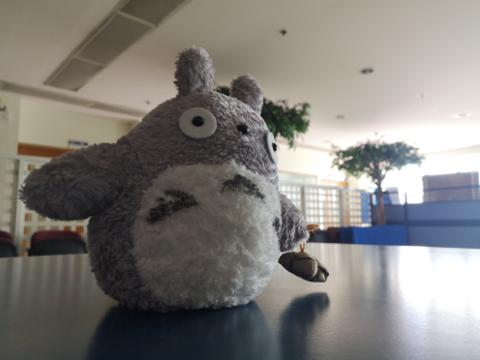totoro: (18, 43, 335, 317)
